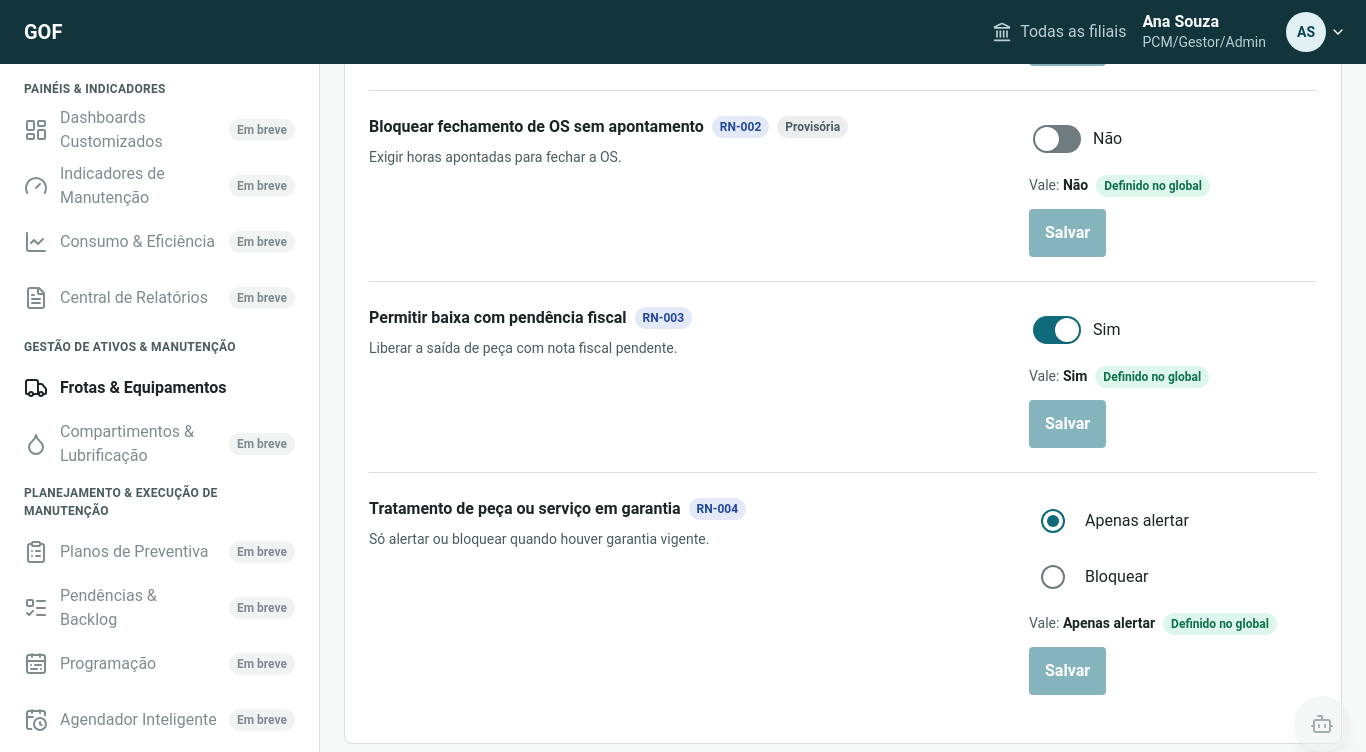
Painel de Parâmetros (F1-28) › 422 ao salvar: mensagem do envelope no diálogo, que continua aberto
(page scrolled)
expect the element "Tratamento de peça ou serviço em garantia" shows "Definido no global": met, box [1171,617,1269,631]
Click the 2nd radio button named "Bloquear" at (1053, 577), box [1029,553,1077,601]
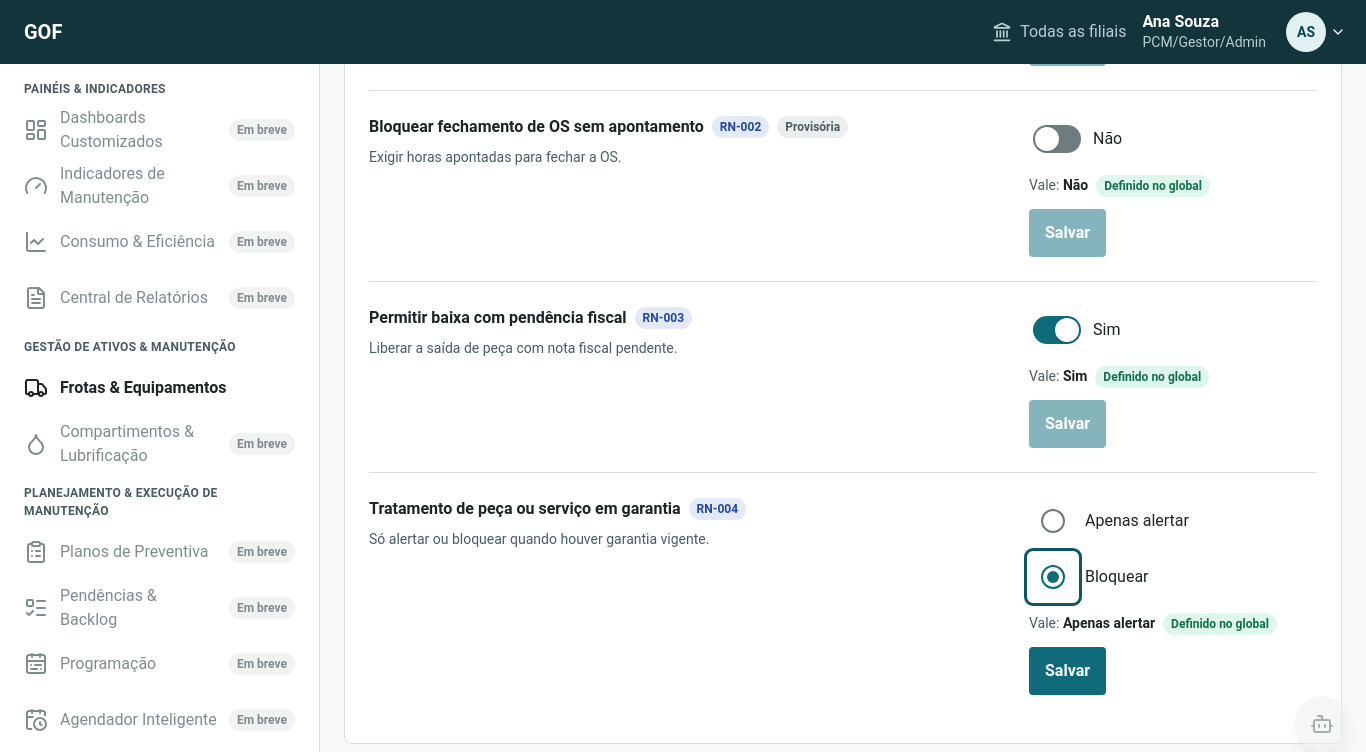
Click the 3rd button "Salvar" at (1068, 671), box [1029,647,1106,695]
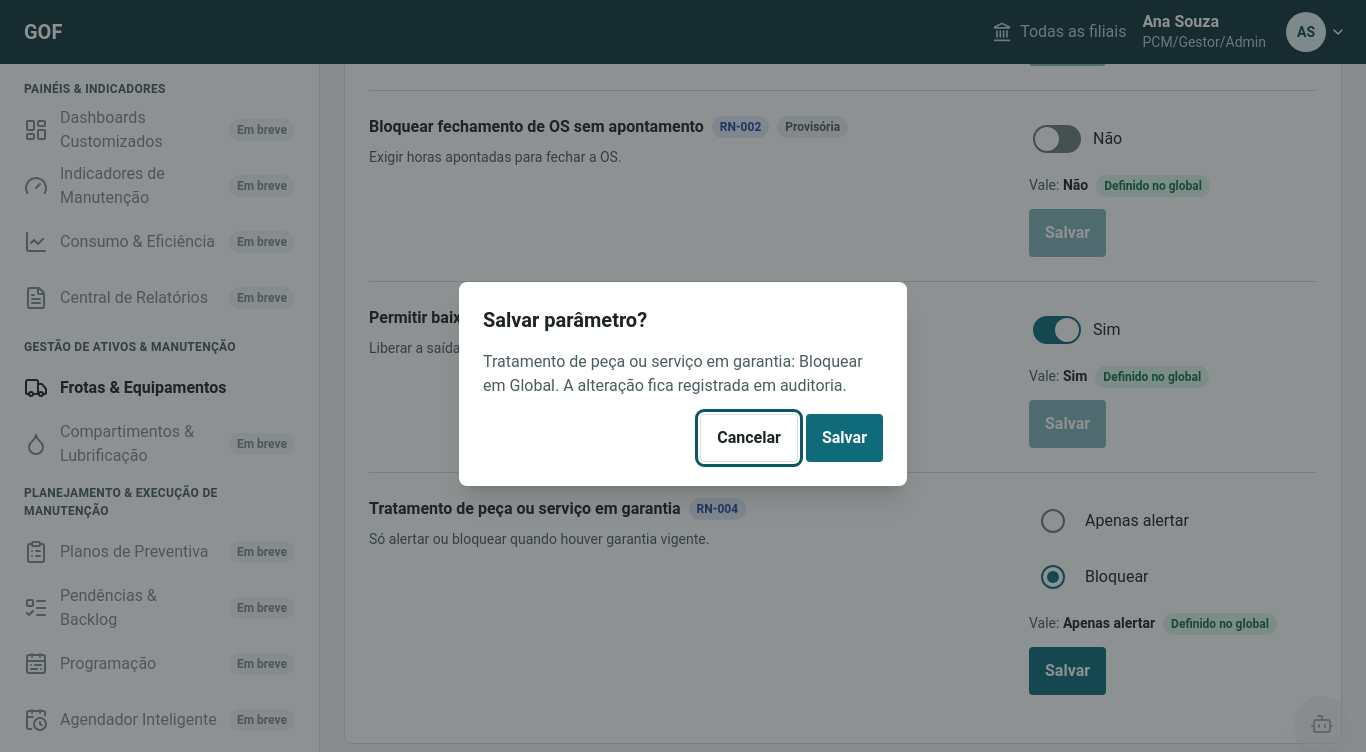
Click the button "Salvar" at (844, 438), box [806,414,883,462]
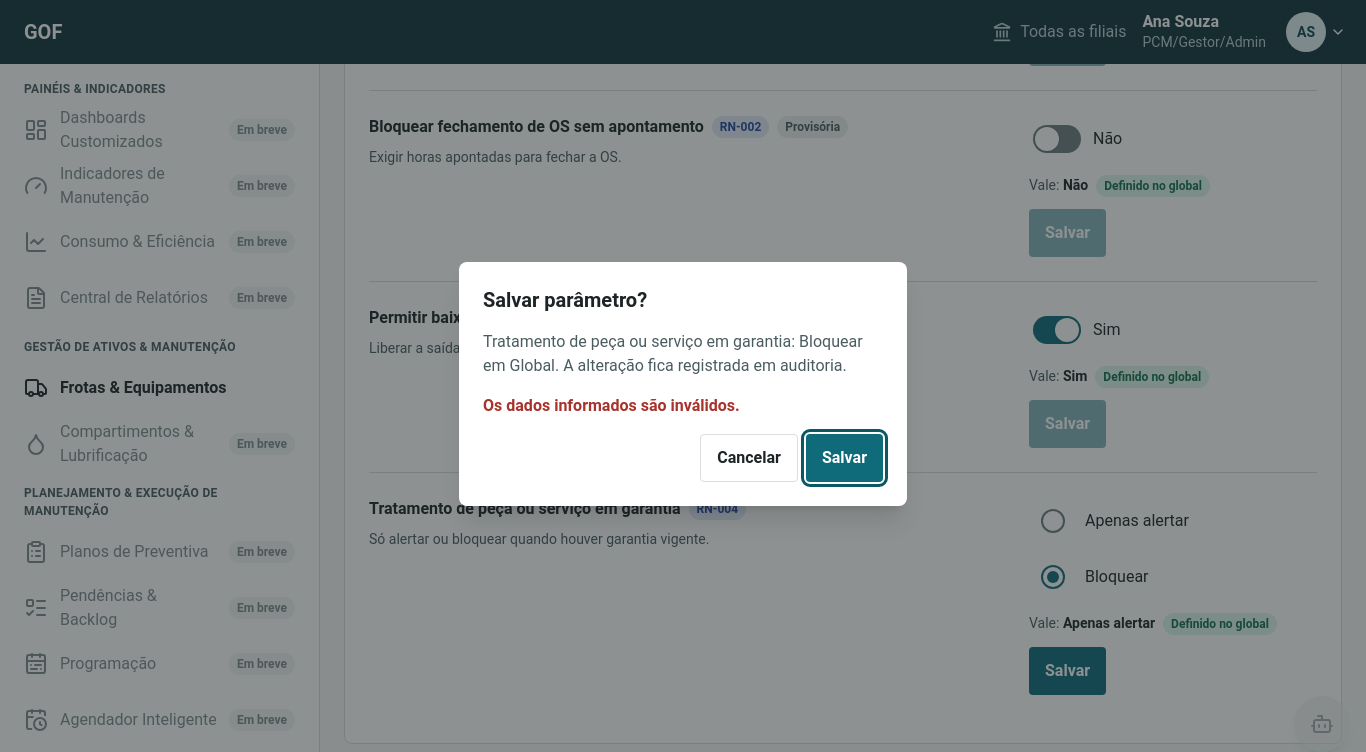
expect the dialog is shown: met, box [459,262,907,506]
expect the message reads "Os dados informados são inválidos.": met, box [483,396,740,415]
